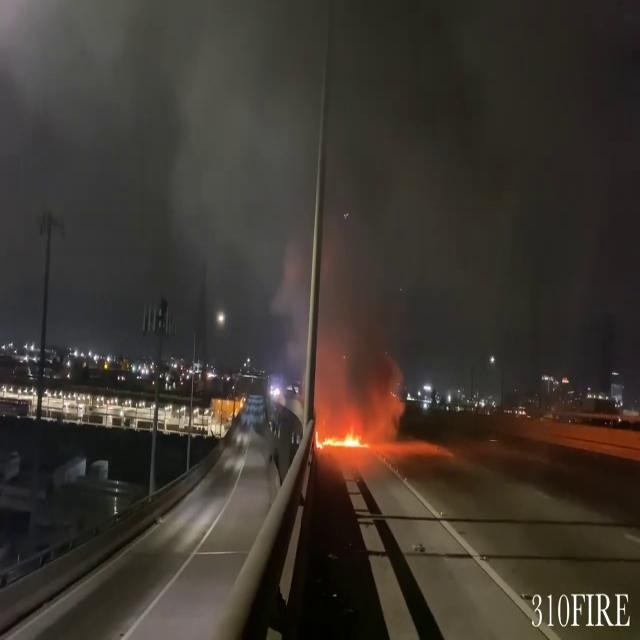Fire: (317, 416, 370, 456)
Smoke: (181, 0, 584, 379)
